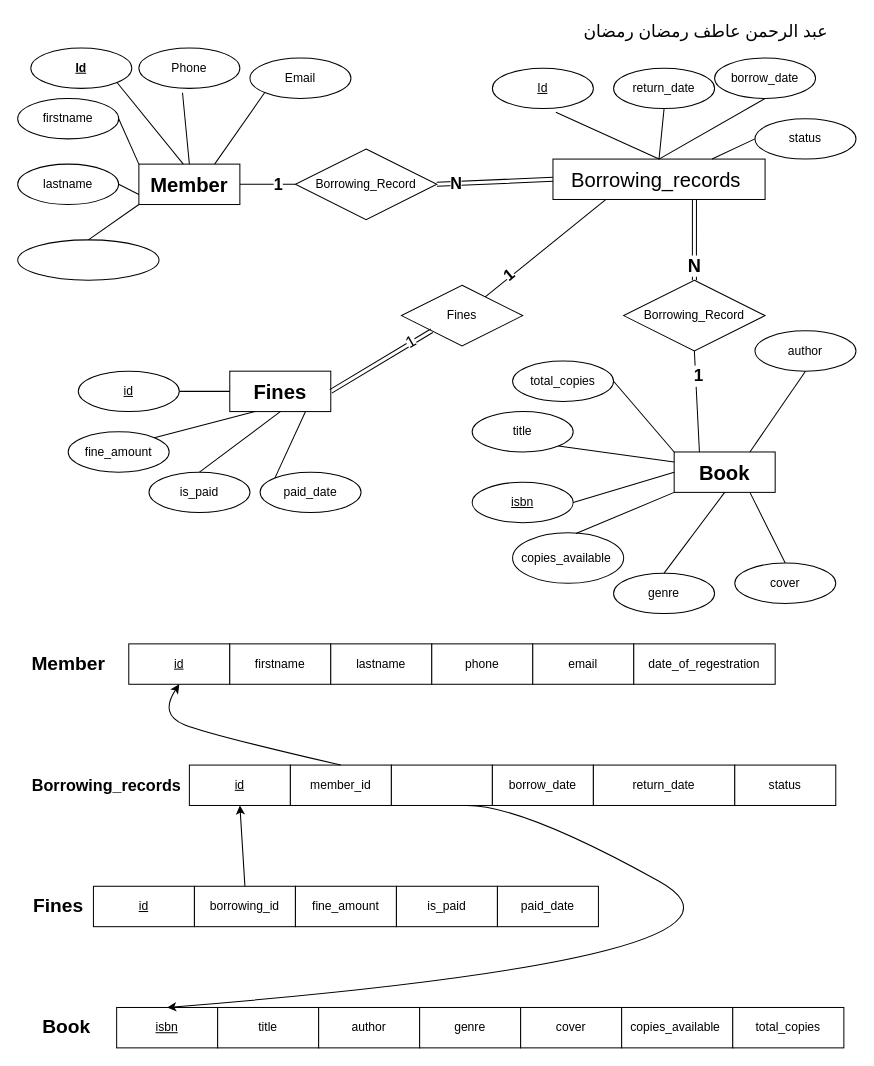
This 874x1066 diagram has some shape labels left out. Each missing label, with the centre of its shape:
"book_isbn" goes at (x=441, y=784).
"data_of_registration" goes at (x=88, y=259).
